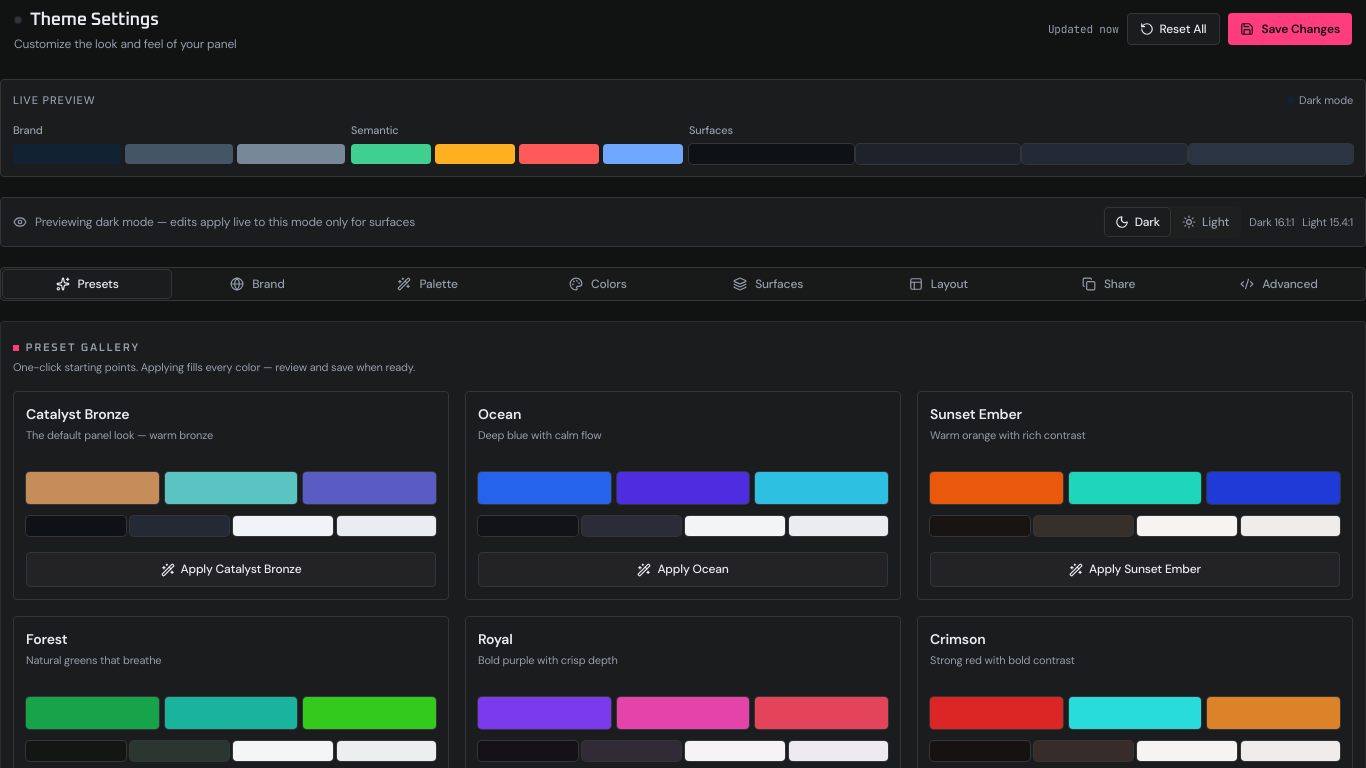
it: ThemeSettingsPage — remount with cached query data › hydrates the form from a fresh fetch on first mount
The width and height of the screenshot is (1366, 768).
Click the button "Brand" at {"x": 257, "y": 284}, box [173,270,342,298]
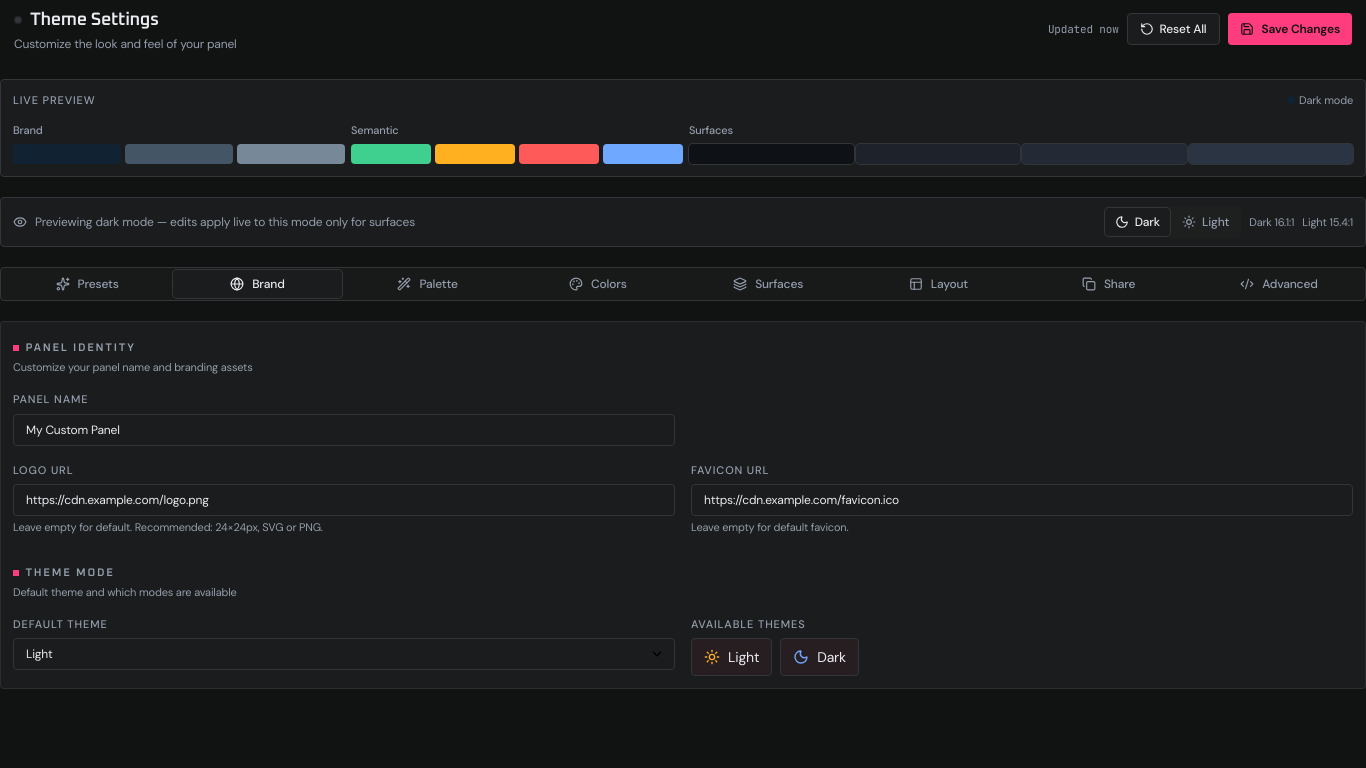
Result: the field showing "My Custom Panel" is shown at [13,414,675,446]
Result: the field showing "https://cdn.example.com/logo.png" is shown at [13,484,675,516]
Click the button "Advanced" at {"x": 1279, "y": 284}, box [1195,270,1363,298]
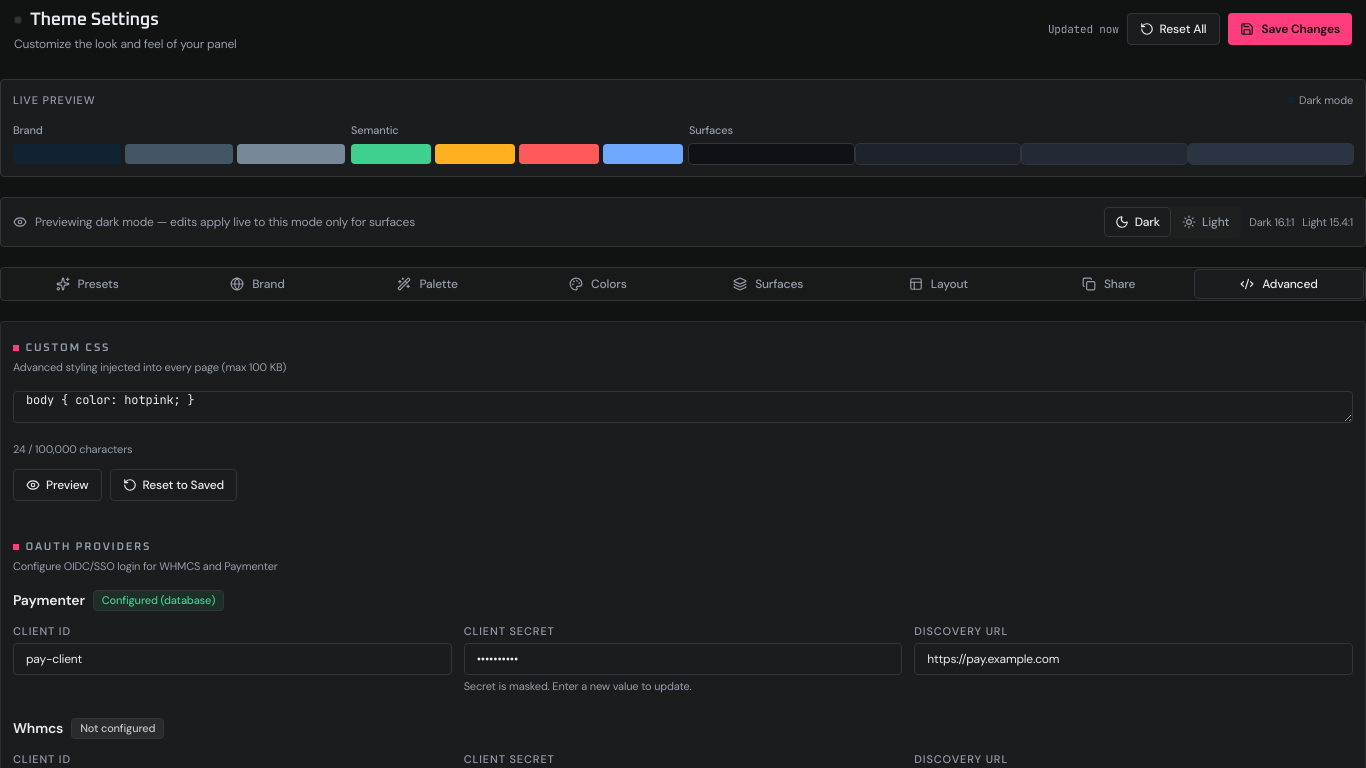
Result: the field showing "pay-client" is shown at [13,643,452,675]
Result: the field showing "https://pay.example.com" is shown at [914,643,1353,675]
